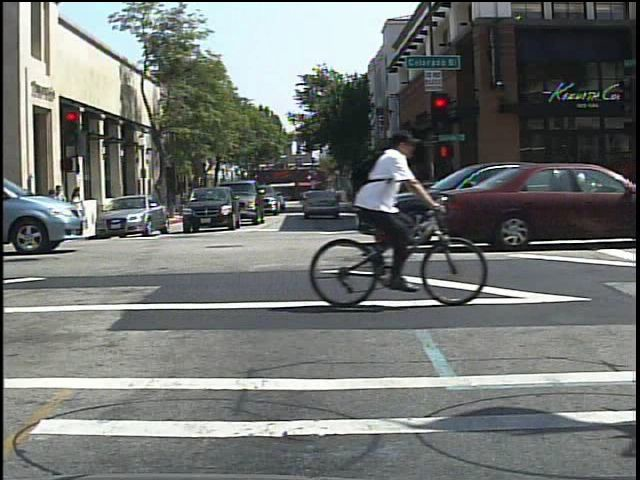person: (343, 123, 431, 301)
